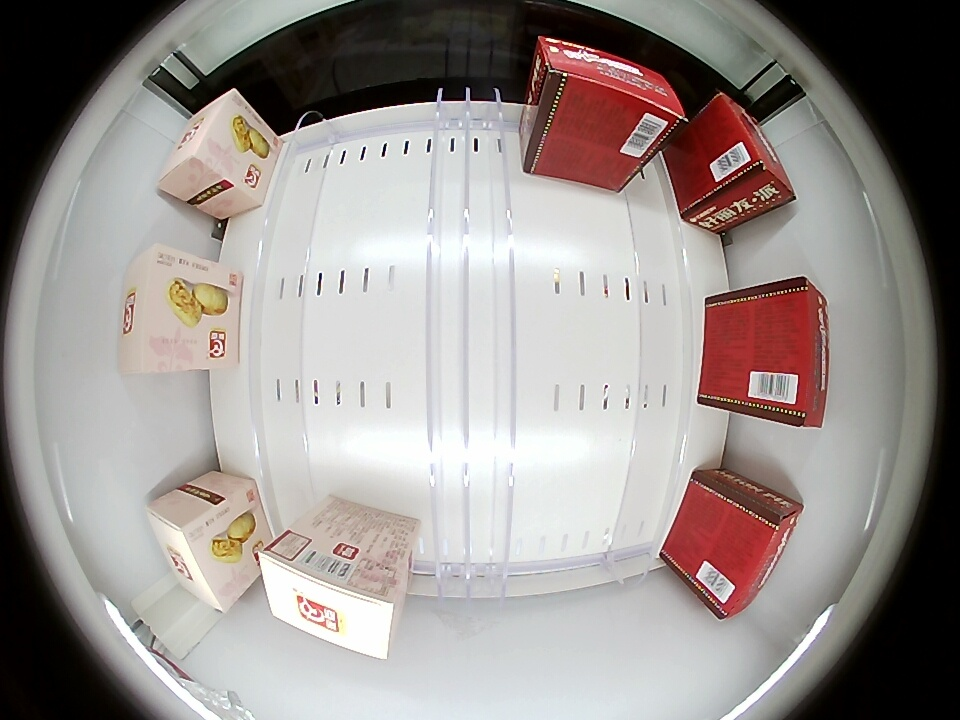haoliyou: (522, 38, 684, 186), (729, 275, 828, 427), (694, 487, 803, 620), (692, 92, 797, 213)
rousongbing: (256, 532, 403, 661), (120, 242, 217, 374), (147, 486, 246, 613), (156, 90, 258, 211)
